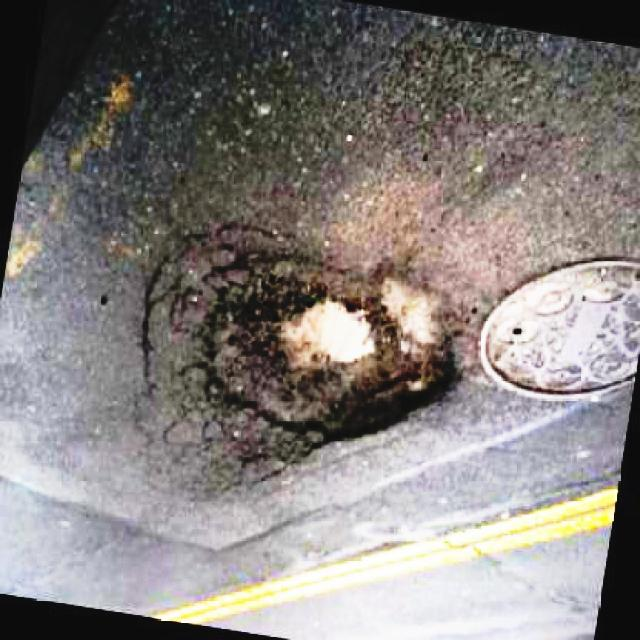pothole: (200, 242, 462, 446)
